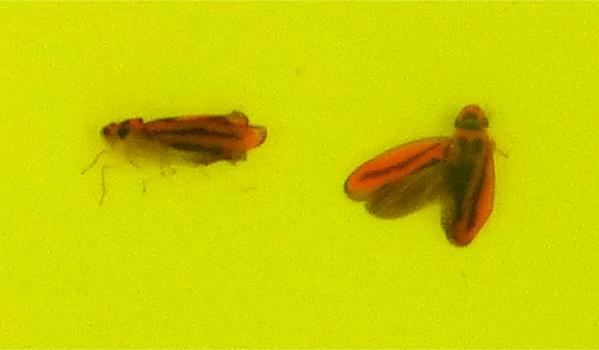Hemiptera: (339, 100, 499, 250), (100, 107, 269, 169)
